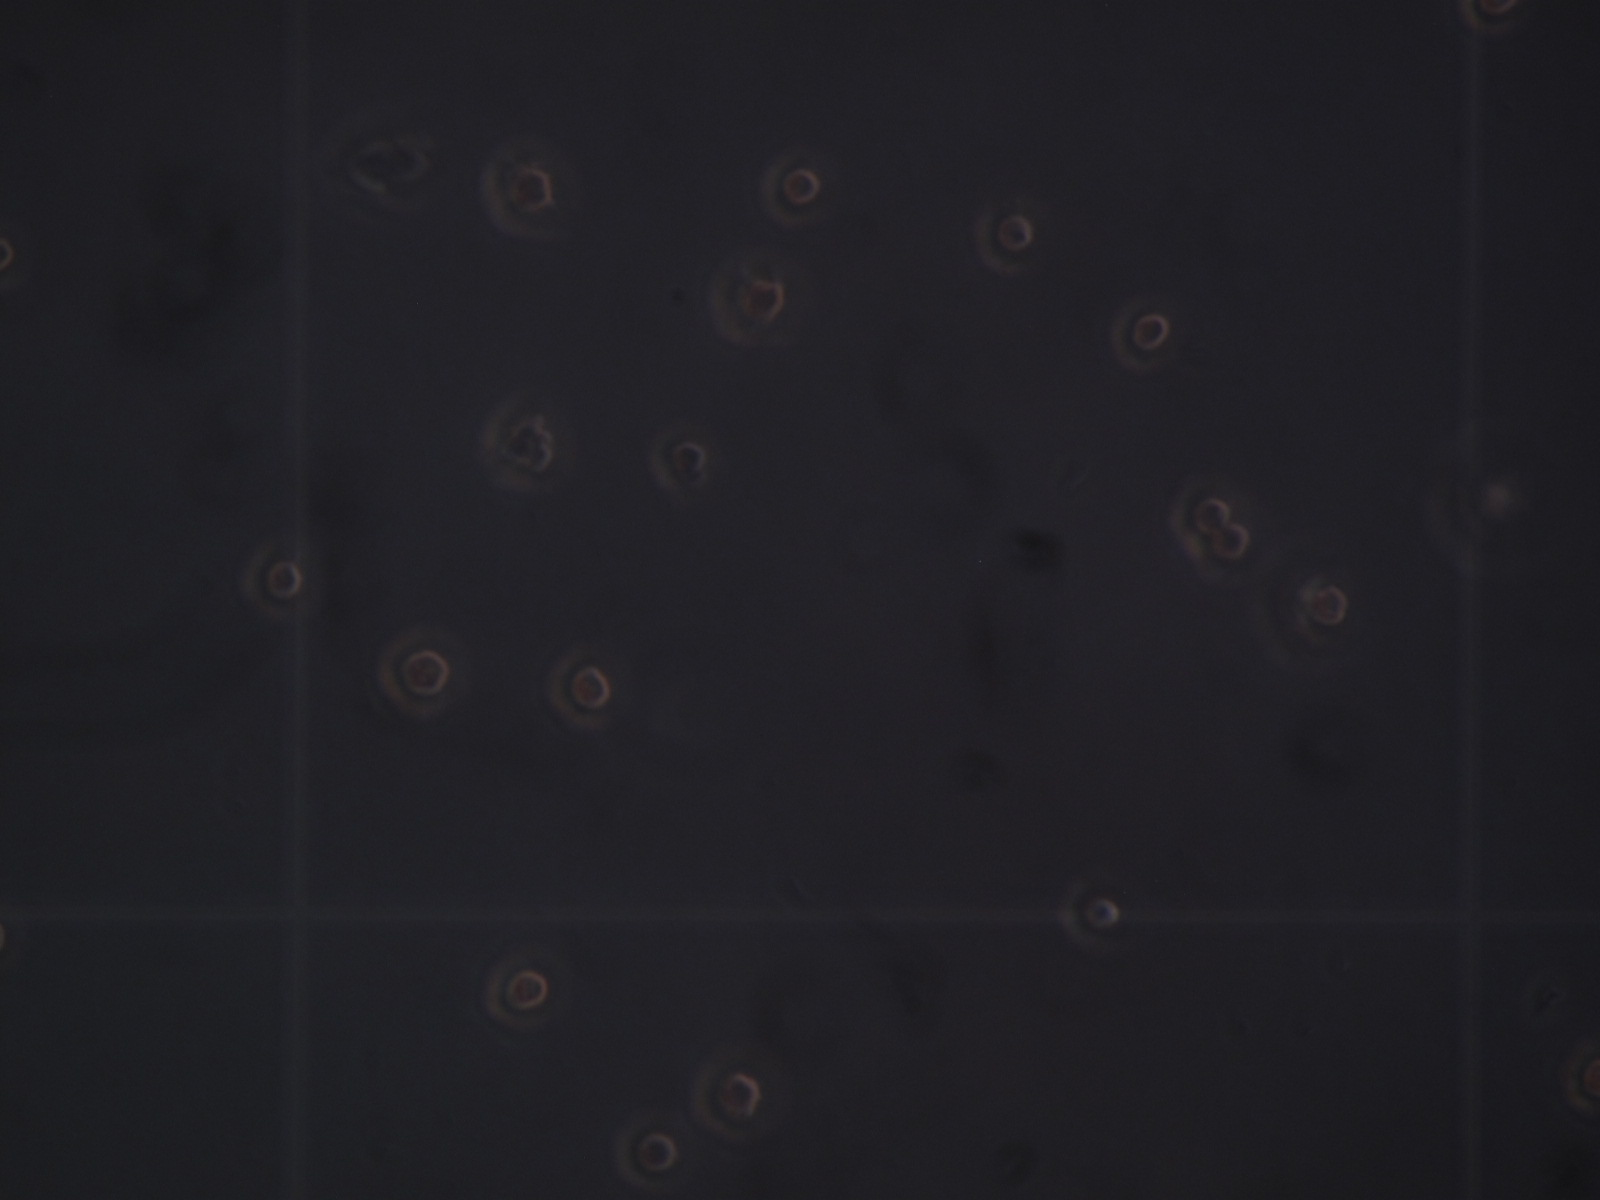hemo: (709, 260, 785, 345), (483, 402, 554, 492), (483, 150, 554, 239), (377, 634, 449, 717), (692, 1056, 760, 1141), (546, 653, 610, 729), (614, 1118, 678, 1190), (484, 957, 548, 1029), (350, 135, 428, 193), (241, 547, 302, 619), (1058, 879, 1120, 950), (761, 156, 821, 227), (1111, 301, 1170, 371), (975, 207, 1034, 275), (649, 429, 708, 492), (1296, 575, 1348, 647), (1170, 480, 1230, 541), (1198, 523, 1250, 586), (1563, 1042, 1600, 1116), (1460, 1, 1519, 34), (1, 224, 16, 292)
